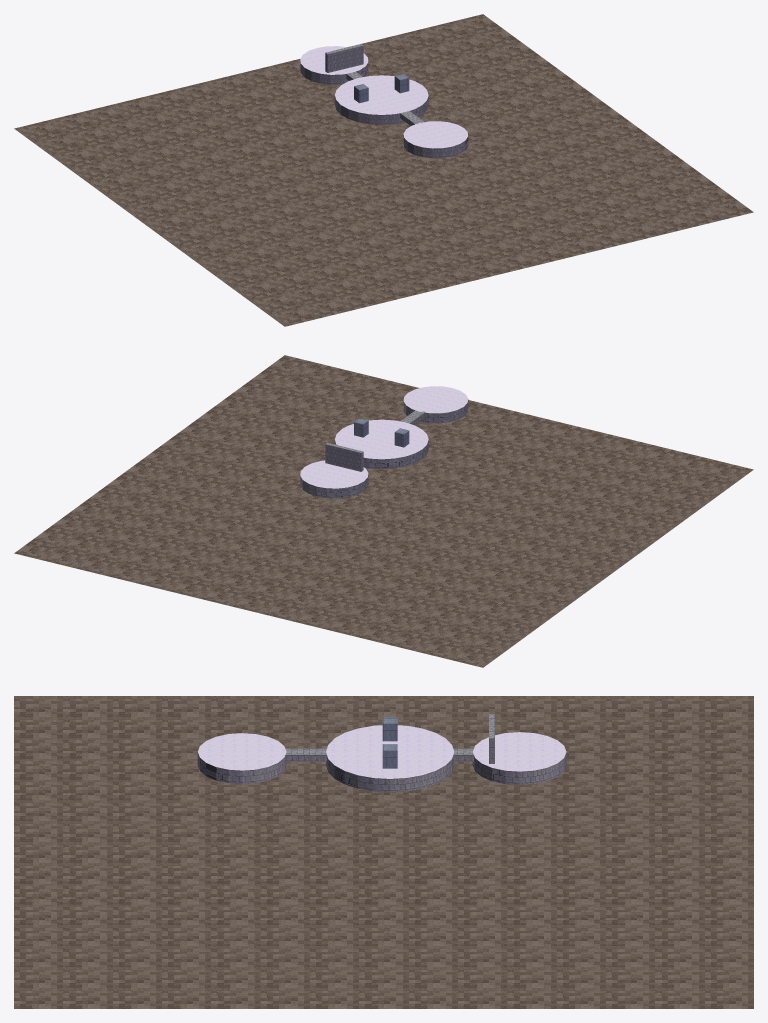
File: nimbus.glb
The picture shows the model from 3 angles, top to bottom: view 1: azimuth 30°, elevation 25°; view 2: azimuth 150°, elevation 25°; view 3: azimuth 270°, elevation 25°; orthographic projection. The views are drawn at different scales.
Visible parts, largest first — view 1: nimbus; view 2: nimbus; view 3: nimbus.
Boxes of the visible parts, x1,y1,x2,y2 form: nimbus: (14,14,753,326); nimbus: (14,355,753,667); nimbus: (14,696,753,1008).
Size of the model in its own units: 6000 by 1130 by 6000.
5 materials, 5 textured.
